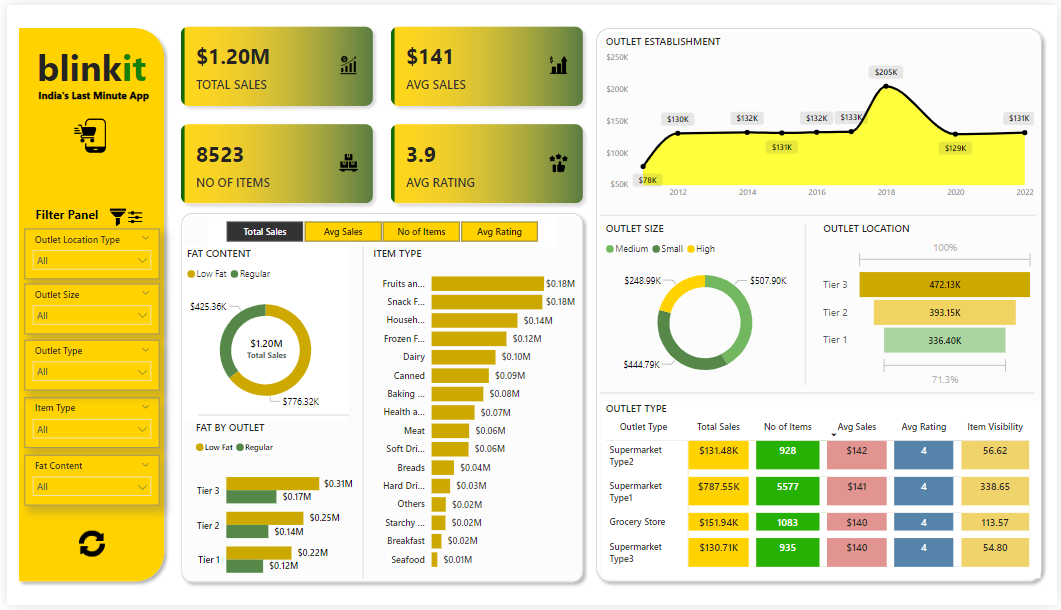

The dashboard page shown, as its layout file describes it:
{"tool":"powerbi","page":{"name":"Page 1","canvas":[1400,800],"ordinal":0},"visuals":[{"type":"shape","box":[6.2,21.8,212.1,756.1],"z":0},{"type":"textbox","box":[36.5,106.7,178.8,37.9],"z":1000},{"type":"textbox","box":[34.7,45.7,168.1,79.5],"z":2000},{"type":"cardVisual","fields":{"Data":["BlinkIT Grocery Data.Total Sales","BlinkIT Grocery Data.Avg Sales","BlinkIT Grocery Data.No of Items","BlinkIT Grocery Data.Avg Rating"]},"box":[215.4,11.4,570.3,270.2],"z":3000},{"type":"shape","box":[222.9,268.1,553.8,510.3],"z":4000},{"type":"donutChart","title":"FAT CONTENT","fields":{"Y":["BlinkIT Grocery Data.Total Sales"],"Category":["BlinkIT Grocery Data.Item Fat Content"]},"box":[235,321.8,219.7,231.8],"z":5000},{"type":"slicer","fields":{"Values":["Metrics.Metrics"]},"box":[266.8,280.9,465.2,40.9],"z":6000},{"type":"cardVisual","fields":{"Data":["BlinkIT Grocery Data.Total Sales"]},"box":[295,424.2,102.1,64.5],"z":7000},{"type":"clusteredBarChart","title":"FAT BY OUTLET","fields":{"Y":["BlinkIT Grocery Data.Total Sales"],"Category":["BlinkIT Grocery Data.Outlet Location Type"],"Series":["BlinkIT Grocery Data.Item Fat Content"]},"box":[247.1,553.6,219.7,228.8],"z":8000},{"type":"shape","box":[255.3,539.4,201.1,13.5],"z":9000},{"type":"shape","box":[467,321.8,16.5,442.8],"z":10000},{"type":"barChart","title":"ITEM TYPE","fields":{"Y":["BlinkIT Grocery Data.Total Sales"],"Category":["BlinkIT Grocery Data.Item Type"]},"box":[483.5,321.8,279.2,442.8],"z":11000},{"type":"shape","box":[777.4,21.8,612.1,756.1],"z":12000},{"type":"lineChart","title":"OUTLET ESTABLISHMENT","fields":{"Category":["BlinkIT Grocery Data.Outlet Establishment Year"],"Y":["BlinkIT Grocery Data.Total Sales"]},"box":[792.6,39.1,580.9,229.1],"z":13000},{"type":"shape","box":[791,270.3,580.3,21.2],"z":14000},{"type":"donutChart","title":"OUTLET SIZE","fields":{"Y":["BlinkIT Grocery Data.Total Sales"],"Category":["BlinkIT Grocery Data.Outlet Size"]},"box":[792.6,288.5,275,225],"z":15000},{"type":"shape","box":[1059.2,293,9.1,213.6],"z":16000},{"type":"funnel","title":"OUTLET LOCATION","fields":{"Y":["Sum(BlinkIT Grocery Data.Sales)"],"Category":["BlinkIT Grocery Data.Outlet Location Type"]},"box":[1083.5,288.5,290.9,225.8],"z":17000},{"type":"shape","box":[789.5,506.7,580.3,21.2],"z":18000},{"type":"pivotTable","title":"OUTLET TYPE","fields":{"Rows":["BlinkIT Grocery Data.Outlet Type"],"Values":["BlinkIT Grocery Data.Total Sales","BlinkIT Grocery Data.No of Items","BlinkIT Grocery Data.Avg Sales","BlinkIT Grocery Data.Avg Rating","Sum(BlinkIT Grocery Data.Item Visibility)"]},"box":[792.6,527.9,584.8,236.4],"z":19000},{"type":"slicer","fields":{"Values":["BlinkIT Grocery Data.Outlet Location Type"]},"box":[22.8,298.9,179.6,67],"z":20000},{"type":"slicer","fields":{"Values":["BlinkIT Grocery Data.Outlet Size"]},"box":[22.8,371.3,179.6,67],"z":21000},{"type":"slicer","fields":{"Values":["BlinkIT Grocery Data.Item Type"]},"box":[22.8,522.8,179.6,67],"z":22000},{"type":"textbox","box":[27.3,263.6,106.1,34.8],"z":23000},{"type":"image","box":[89.8,693,46.9,49.6],"z":24000},{"type":"image","box":[80.3,143.9,62.1,62.1],"z":25000},{"type":"image","box":[147,266.7,48.5,33.3],"z":26000},{"type":"image","box":[125.8,266.7,45.5,33.3],"z":27000},{"type":"slicer","fields":{"Values":["BlinkIT Grocery Data.Outlet Type"]},"box":[22.8,446.4,179.6,67],"z":27001},{"type":"slicer","fields":{"Values":["BlinkIT Grocery Data.Item Fat Content"]},"box":[22.8,600.5,179.6,67],"z":27002}]}

Visuals, with their boxes in screenshot pixels (x1, y1, x2, y2), scaled from the page's 1400x800 canvas onto the 1061x610 screenshot:
shape: 5 17 165 593
textbox: 28 81 163 110
textbox: 26 35 154 95
cardVisual - BlinkIT Grocery Data.Total Sales x BlinkIT Grocery Data.Avg Sales: 163 9 595 215
shape: 169 204 589 594
"FAT CONTENT" donutChart: 178 245 345 422
slicer - Metrics.Metrics: 202 214 555 245
cardVisual - BlinkIT Grocery Data.Total Sales: 224 323 301 373
"FAT BY OUTLET" clusteredBarChart: 187 422 354 597
shape: 193 411 346 422
shape: 354 245 366 583
"ITEM TYPE" barChart: 366 245 578 583
shape: 589 17 1053 593
"OUTLET ESTABLISHMENT" lineChart: 601 30 1041 205
shape: 599 206 1039 222
"OUTLET SIZE" donutChart: 601 220 809 392
shape: 803 223 810 386
"OUTLET LOCATION" funnel: 821 220 1042 392
shape: 598 386 1038 403
"OUTLET TYPE" pivotTable: 601 403 1044 583
slicer - BlinkIT Grocery Data.Outlet Location Type: 17 228 153 279
slicer - BlinkIT Grocery Data.Outlet Size: 17 283 153 334
slicer - BlinkIT Grocery Data.Item Type: 17 399 153 450
textbox: 21 201 101 228
image: 68 528 104 566
image: 61 110 108 157
image: 111 203 148 229
image: 95 203 130 229
slicer - BlinkIT Grocery Data.Outlet Type: 17 340 153 391
slicer - BlinkIT Grocery Data.Item Fat Content: 17 458 153 509
